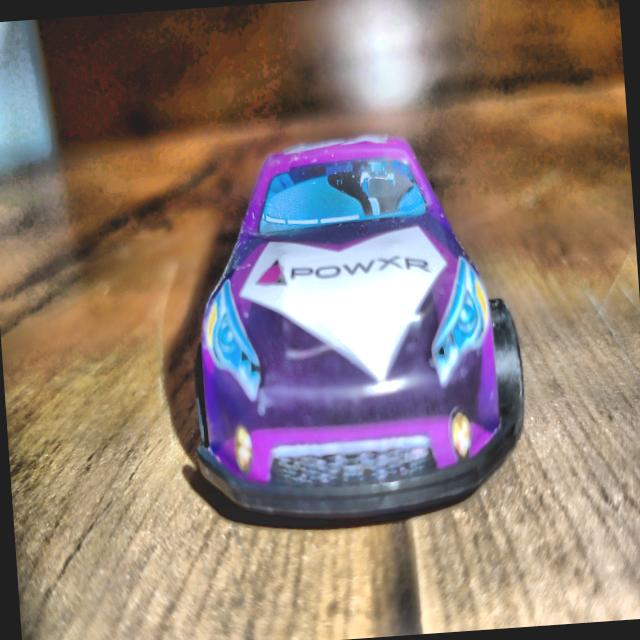Car: (177, 127, 530, 528)
